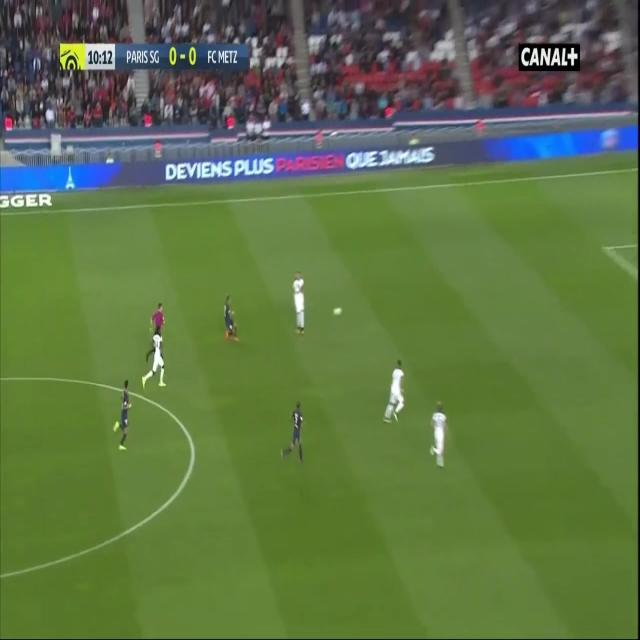Ball: (332, 302, 344, 321)
Player: (427, 399, 452, 474), (141, 325, 167, 396), (383, 358, 409, 427), (112, 377, 134, 453), (280, 401, 306, 463), (291, 269, 308, 340), (222, 290, 241, 344)
Referee: (149, 298, 168, 336)
